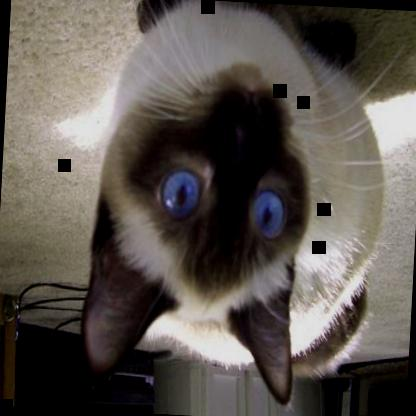cat: (77, 0, 394, 413)
